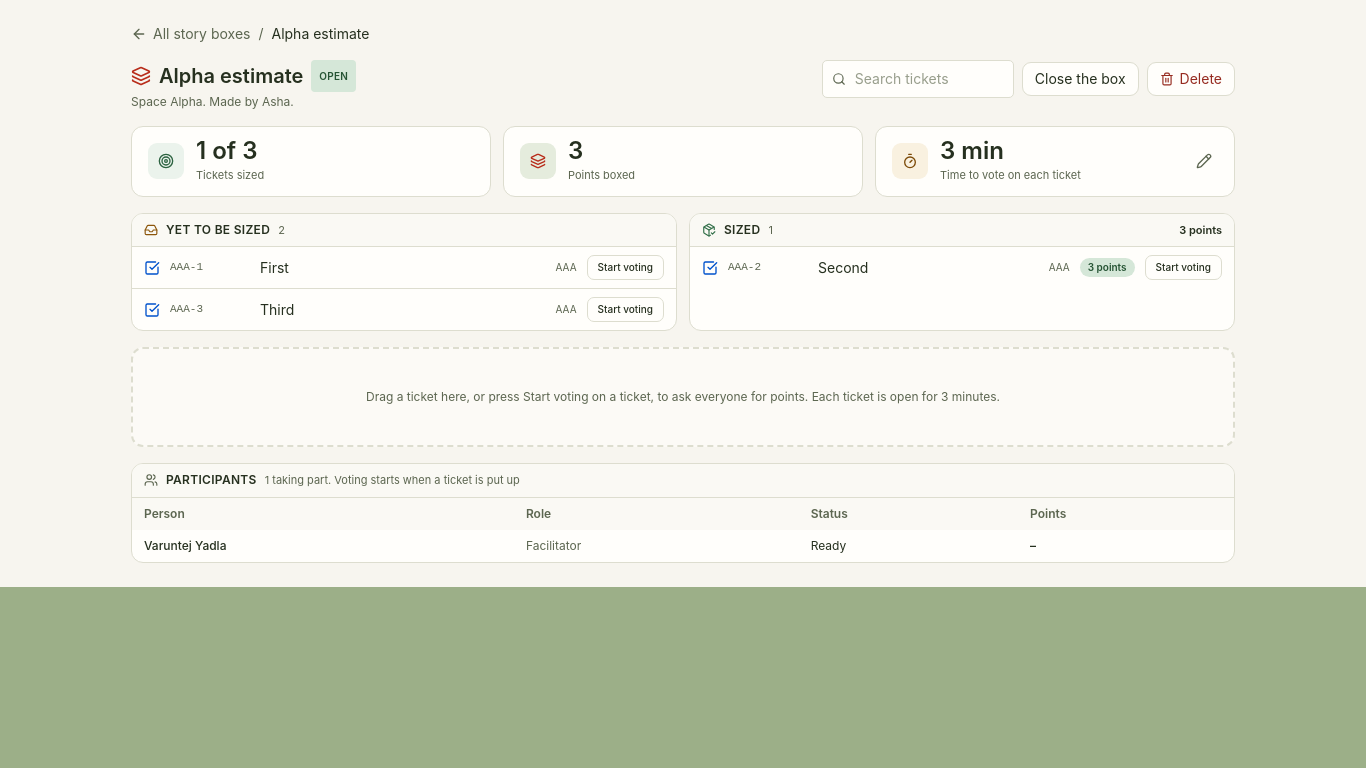
Scenario: putting a ticket up for voting (local edition) › starts with a button, shows the countdown, and takes the ticket out of the lanes
The width and height of the screenshot is (1366, 768).
Click the button "Start voting" in the row of "AAA-1": (625, 268) top-left (587, 255), bottom-right (664, 280)
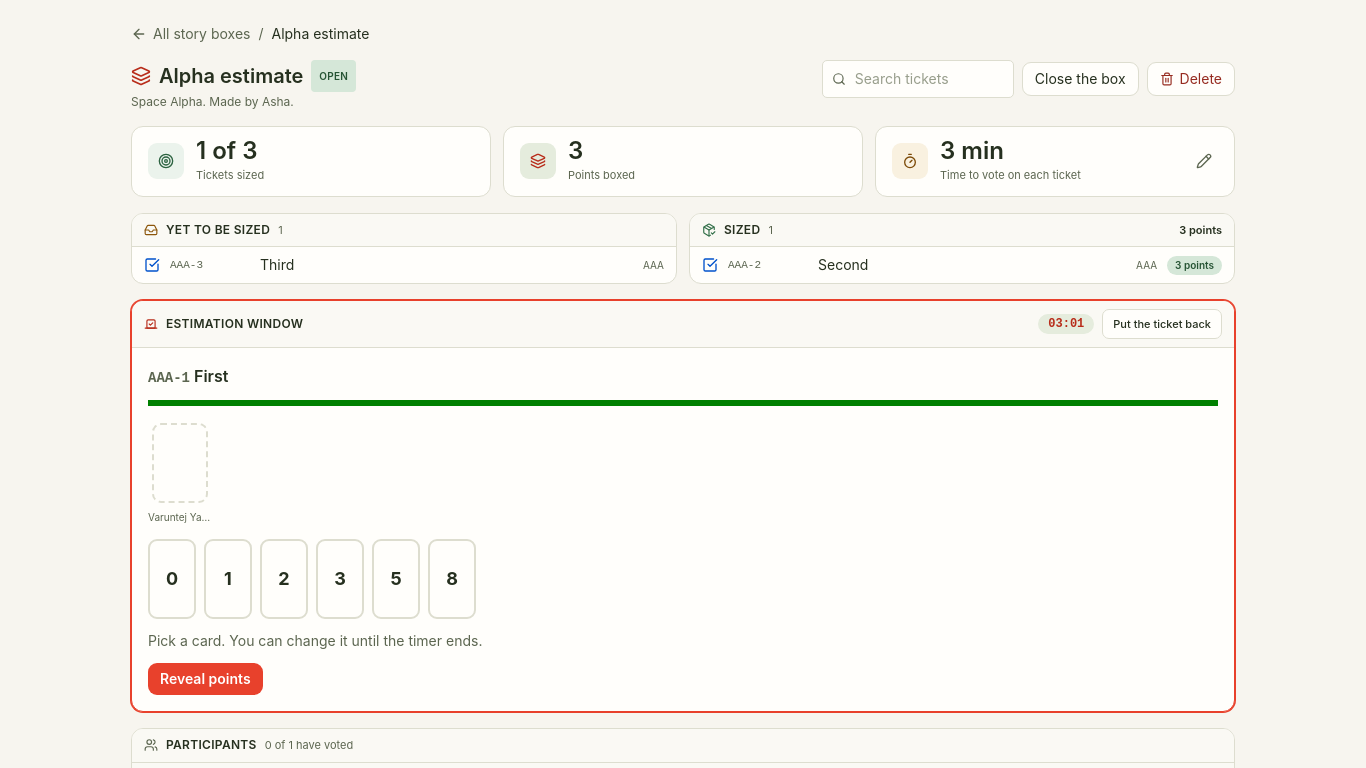
Now the text "03:01" is shown, box top-left (1038, 314), bottom-right (1094, 334)
Now the element named "Estimation window" shows "AAA-1", box top-left (148, 370), bottom-right (190, 386)
